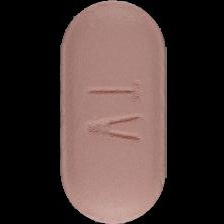63629-4728: (0, 0, 224, 224)
